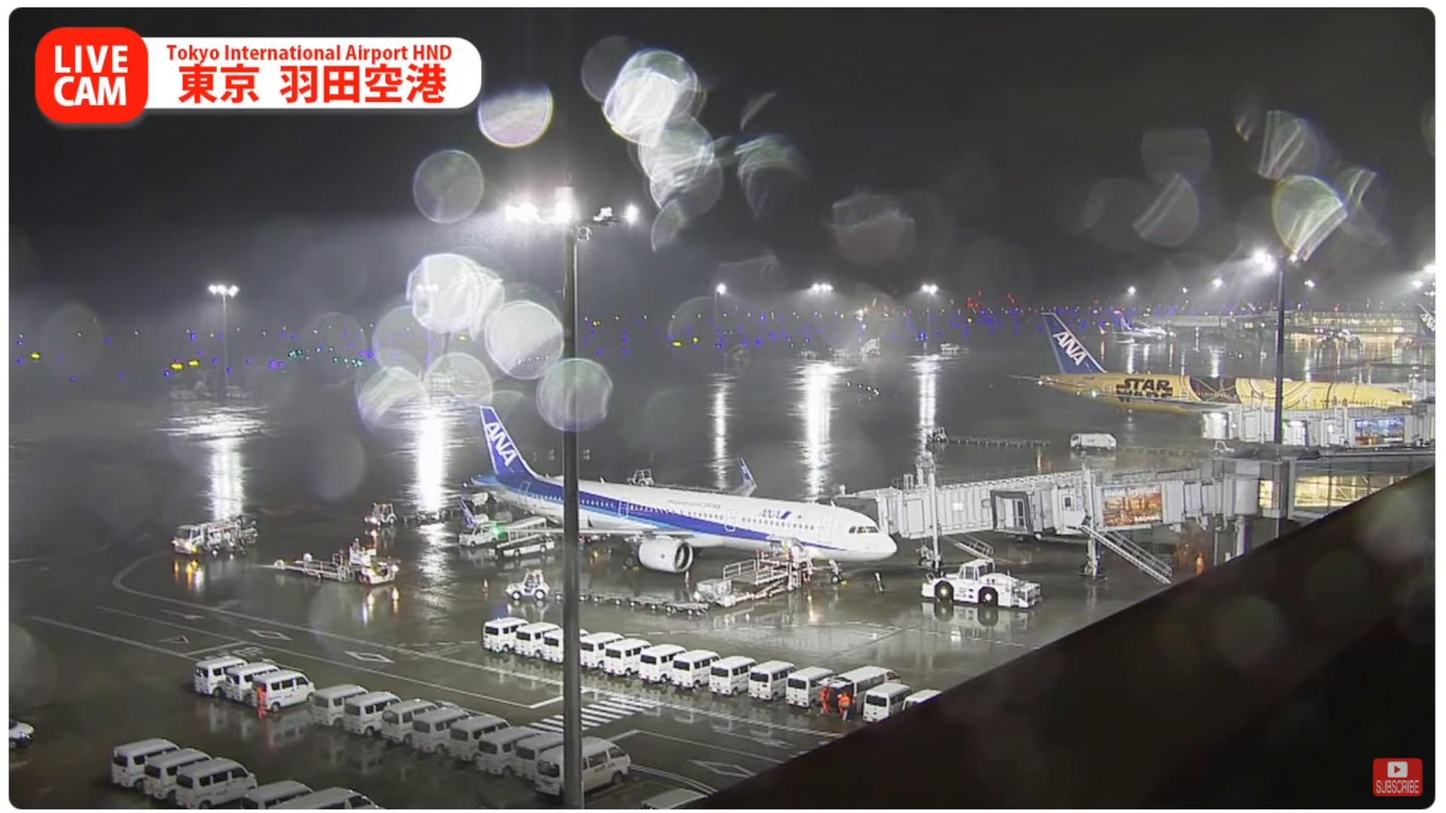APS: (920, 557, 1042, 611)
Aerobridge: (837, 461, 1193, 540), (988, 473, 1227, 539)
Airplane: (456, 406, 894, 586)
Dolly: (549, 585, 713, 618), (416, 499, 491, 526)
JCPL: (692, 533, 821, 610), (273, 543, 399, 587)
Skyloader: (483, 513, 557, 558)
Tractor: (506, 569, 548, 602), (361, 500, 398, 527)
Window: (1289, 476, 1414, 509)
